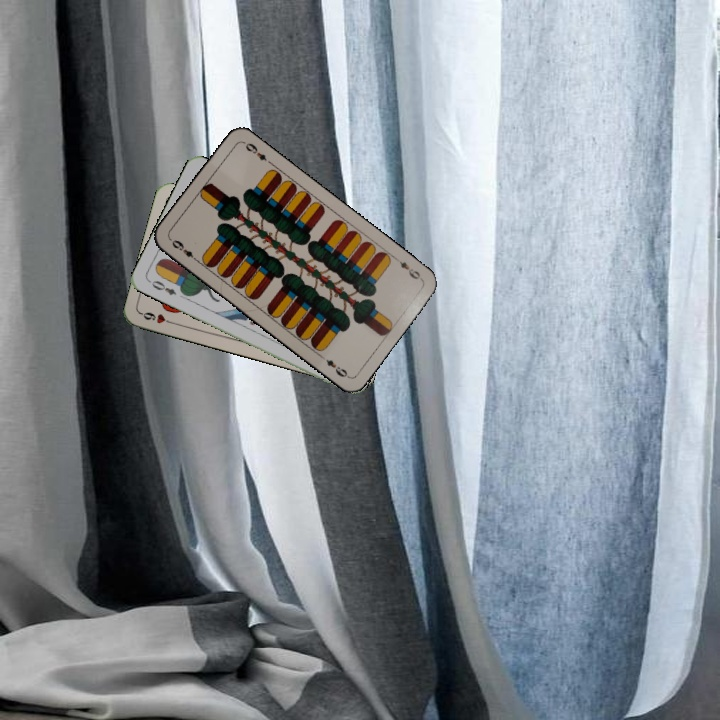E9: (390, 253, 425, 283), (168, 236, 201, 265)
EO: (148, 276, 179, 298)
H9: (137, 308, 177, 327)
